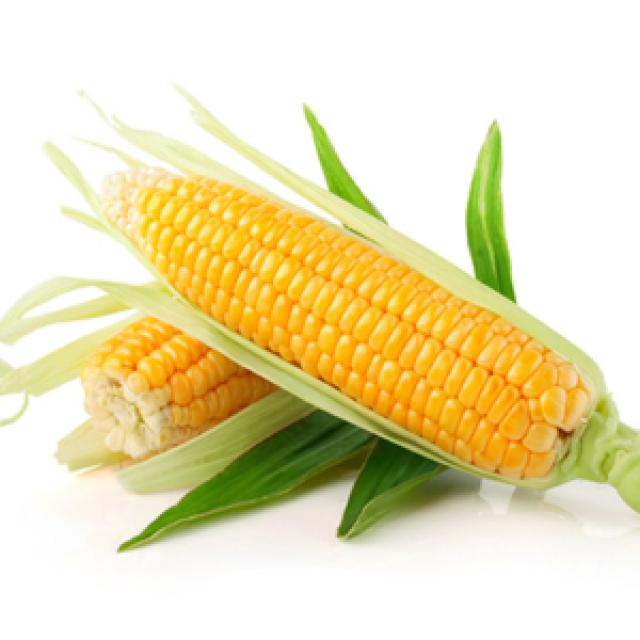corn: (27, 91, 640, 554)
